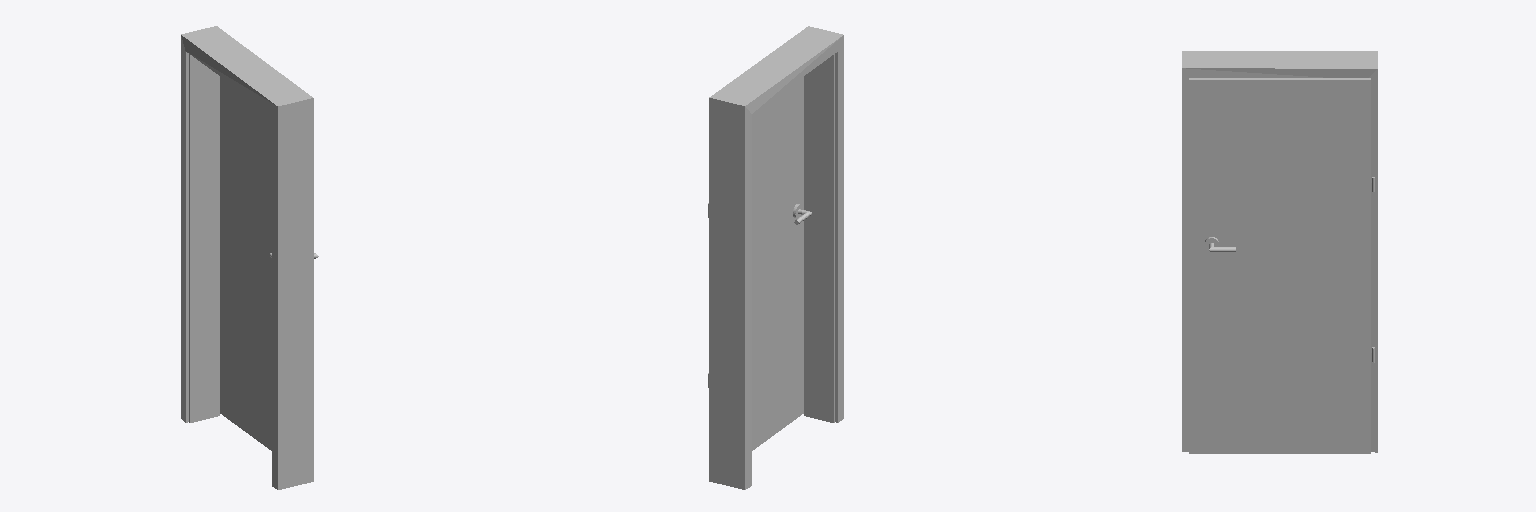
The model's file is door3.obj.
3 renders of one model, left to right at view 1: azimuth 30°, elevation 25°; view 2: azimuth 150°, elevation 25°; view 3: azimuth 270°, elevation 25°, orthographic.
Parts seen in each view (by area): view 1: Cylinder.005, Cylinder.001; view 2: Cylinder.005, Cylinder.001; view 3: Cylinder.001, Cylinder.005.
Part boxes in pixels (x1,y1,x2,y2): Cylinder.005: (181, 26, 313, 489); Cylinder.001: (220, 77, 271, 450); Cylinder.005: (708, 26, 843, 489); Cylinder.001: (708, 77, 803, 450); Cylinder.001: (1189, 78, 1374, 453); Cylinder.005: (1182, 51, 1377, 452).
Bounding box in the file's own units: 0.3039 × 2.05 × 0.95.